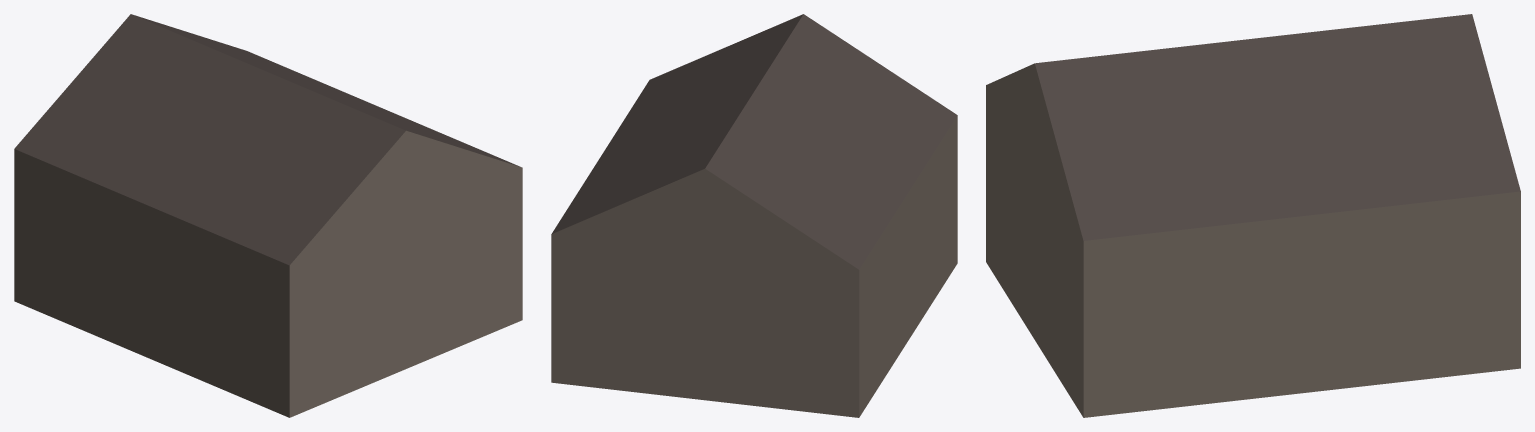
The picture shows the model from 3 angles, left to right: view 1: azimuth 30°, elevation 25°; view 2: azimuth 150°, elevation 25°; view 3: azimuth 270°, elevation 25°; orthographic projection. The views are drawn at different scales.
Visible parts, largest first — view 1: HP-w1376988840; view 2: HP-w1376988840; view 3: HP-w1376988840.
Boxes of the visible parts, x1,y1,x2,y2 form: HP-w1376988840: [14, 14, 522, 417]; HP-w1376988840: [551, 14, 957, 417]; HP-w1376988840: [986, 14, 1520, 417].
Size of the model in its own units: 14.91 by 9.38 by 16.43.
